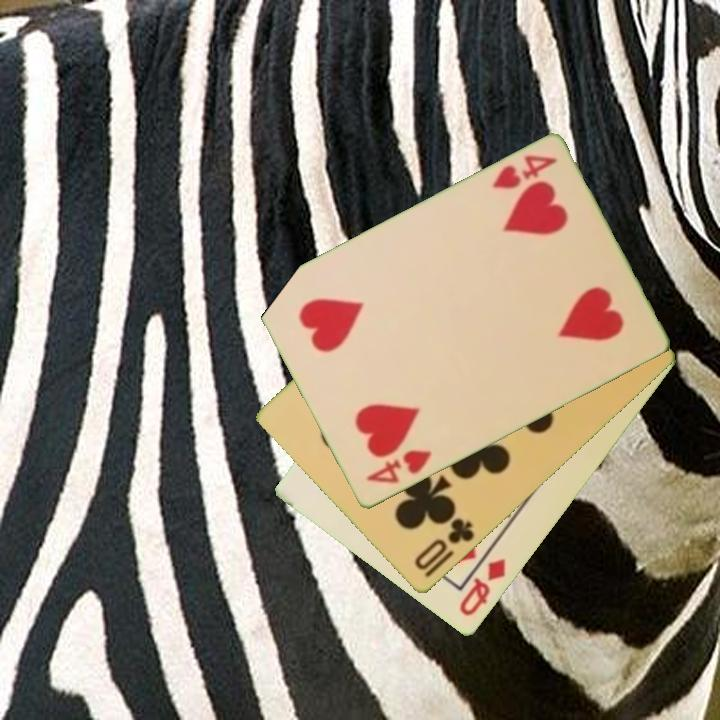10c: (411, 514, 478, 574)
4h: (362, 446, 435, 488), (488, 151, 560, 193)
Qd: (456, 555, 509, 620)
